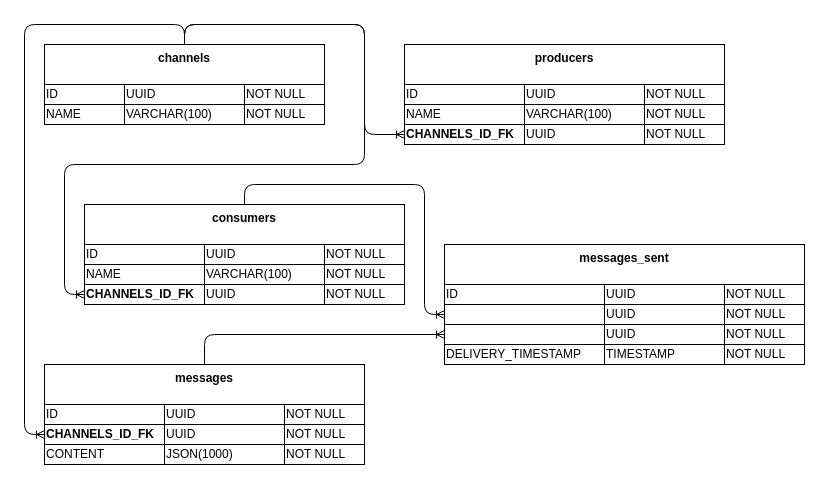
The diagram is 822 pixels wide and 482 high, and some of its shapes have lost their labels. The shapes that lost their labels are listed below. From the top down, each one's centre as x and y in pixels, then its label:
At point (524, 314): "CONSUMMERS_ID_FK".
At point (524, 334): "MESSAGES_ID_FK".
